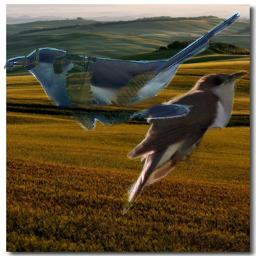Cuckoo: (4, 10, 248, 132), (123, 69, 249, 219)
